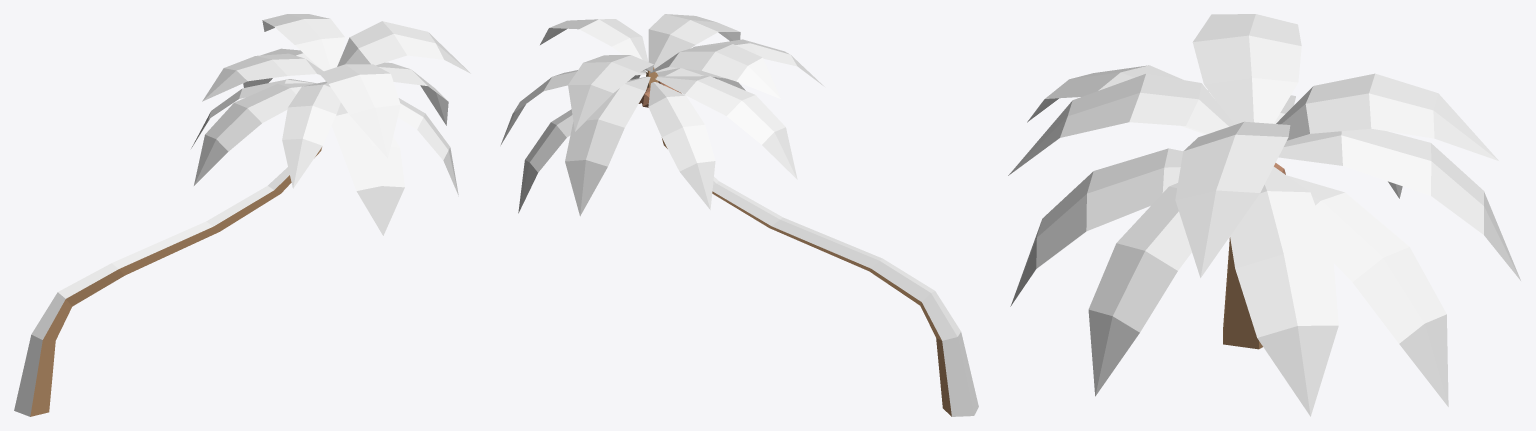
File: Palm_Tree_Coconut_OneSided_l_Snow_05.fbx
The picture shows the model from 3 angles, left to right: view 1: azimuth 30°, elevation 25°; view 2: azimuth 150°, elevation 25°; view 3: azimuth 270°, elevation 25°; orthographic projection. The views are drawn at different scales.
Visible parts, largest first — view 1: Palm_Tree_Coconut_OneSided_l_Snow_05; view 2: Palm_Tree_Coconut_OneSided_l_Snow_05; view 3: Palm_Tree_Coconut_OneSided_l_Snow_05.
Part boxes in pixels (x1=…): Palm_Tree_Coconut_OneSided_l_Snow_05: x1=14, y1=14, x2=470, y2=416; Palm_Tree_Coconut_OneSided_l_Snow_05: x1=500, y1=14, x2=978, y2=416; Palm_Tree_Coconut_OneSided_l_Snow_05: x1=1008, y1=14, x2=1520, y2=416.
Size of the model in its own units: 755 by 470 by 434.
